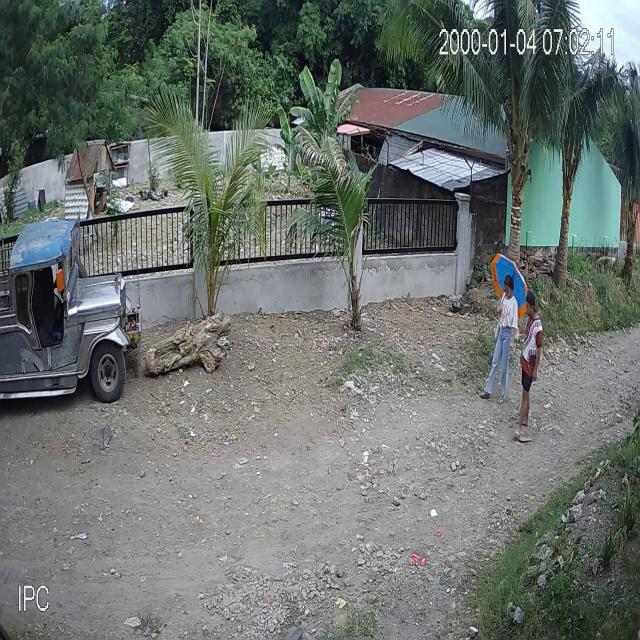walking: (480, 249, 530, 406), (512, 289, 544, 439)
